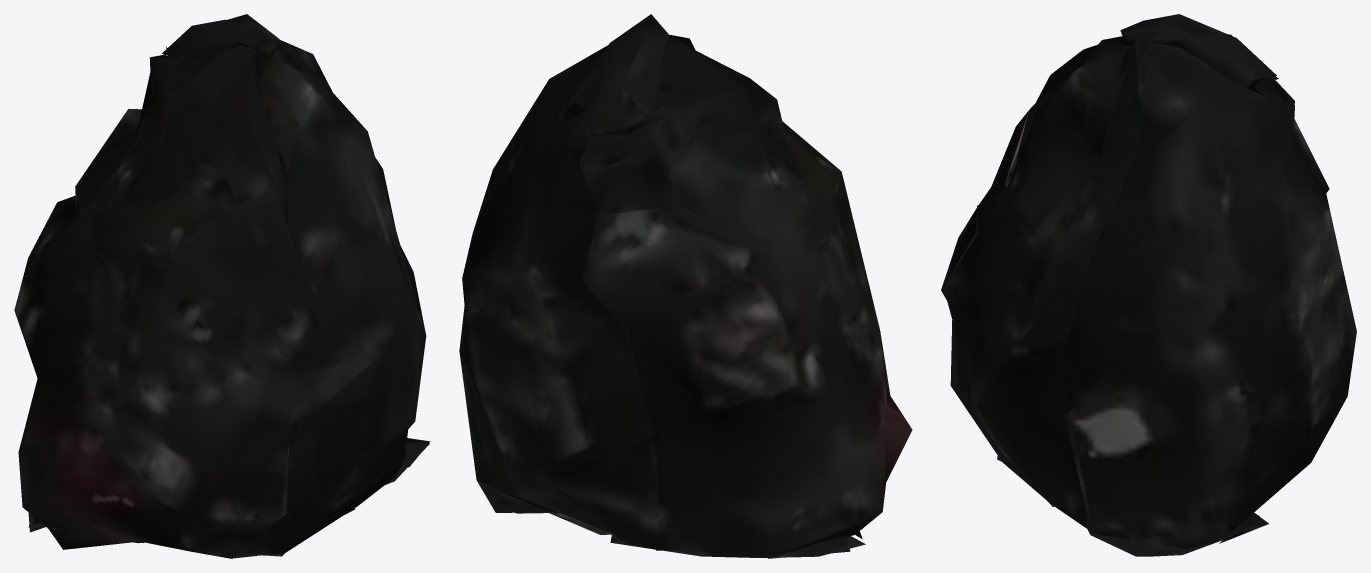
File: detail_trashBag.glb
3 renders of one model, left to right at view 1: azimuth 30°, elevation 25°; view 2: azimuth 150°, elevation 25°; view 3: azimuth 270°, elevation 25°, orthographic.
Parts seen in each view (by area): view 1: detail_trashBag_LOD0; view 2: detail_trashBag_LOD0; view 3: detail_trashBag_LOD0.
Boxes of the visible parts, x1,y1,x2,y2 form: detail_trashBag_LOD0: (14,14,430,558); detail_trashBag_LOD0: (459,14,912,558); detail_trashBag_LOD0: (941,14,1356,556).
Size of what is drawn, in the model's own units: 0.5205 by 0.5774 by 0.4655.
1 material, 1 textured.
